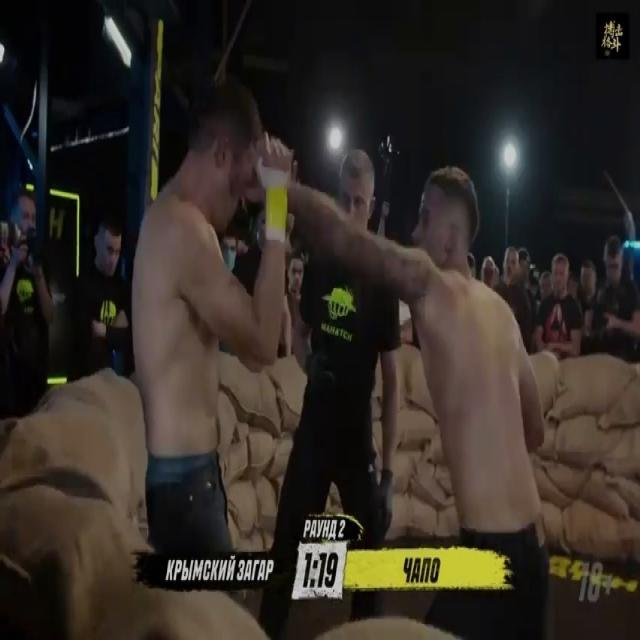fight: (83, 1, 607, 639)
